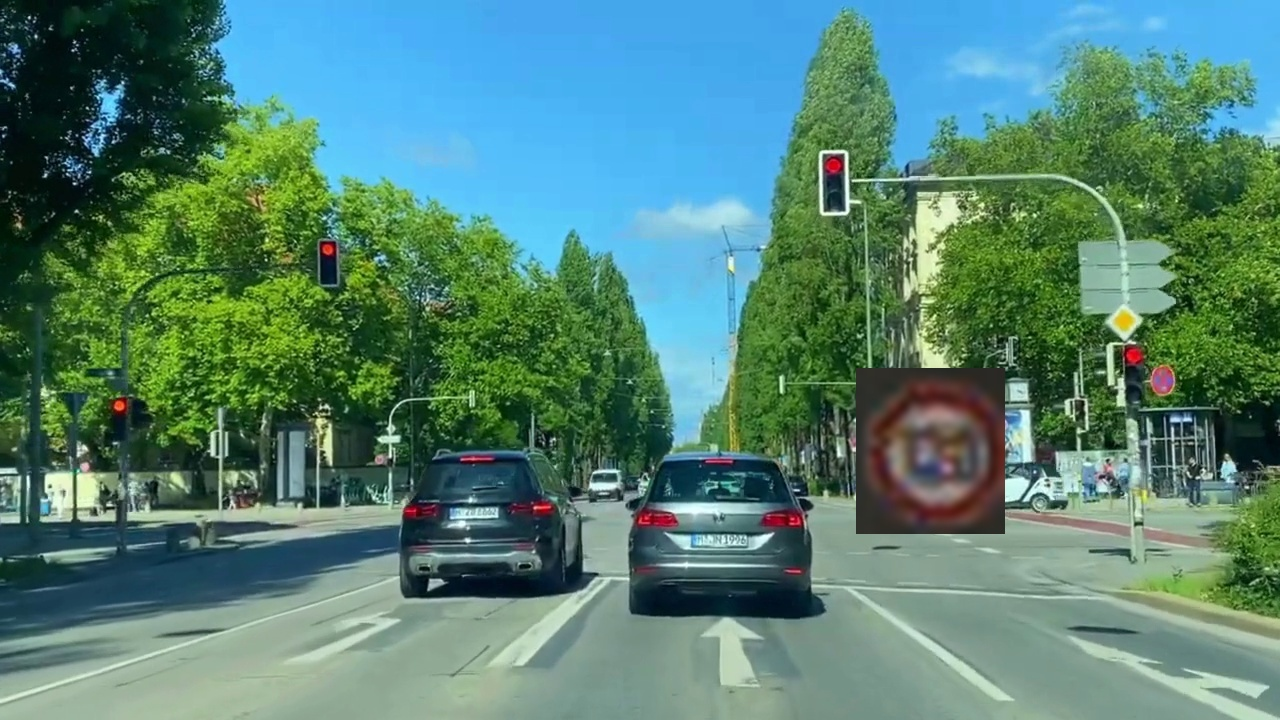Speed 120: (856, 368, 1005, 534)
